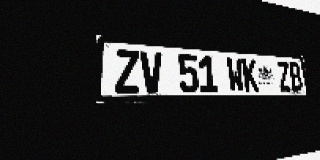1: (197, 55, 218, 92)
5: (178, 54, 199, 93)
B: (288, 62, 303, 91)
K: (241, 58, 259, 92)
V: (140, 51, 164, 93)
W: (226, 57, 245, 92)
Z: (115, 49, 140, 93), (276, 61, 292, 91)
